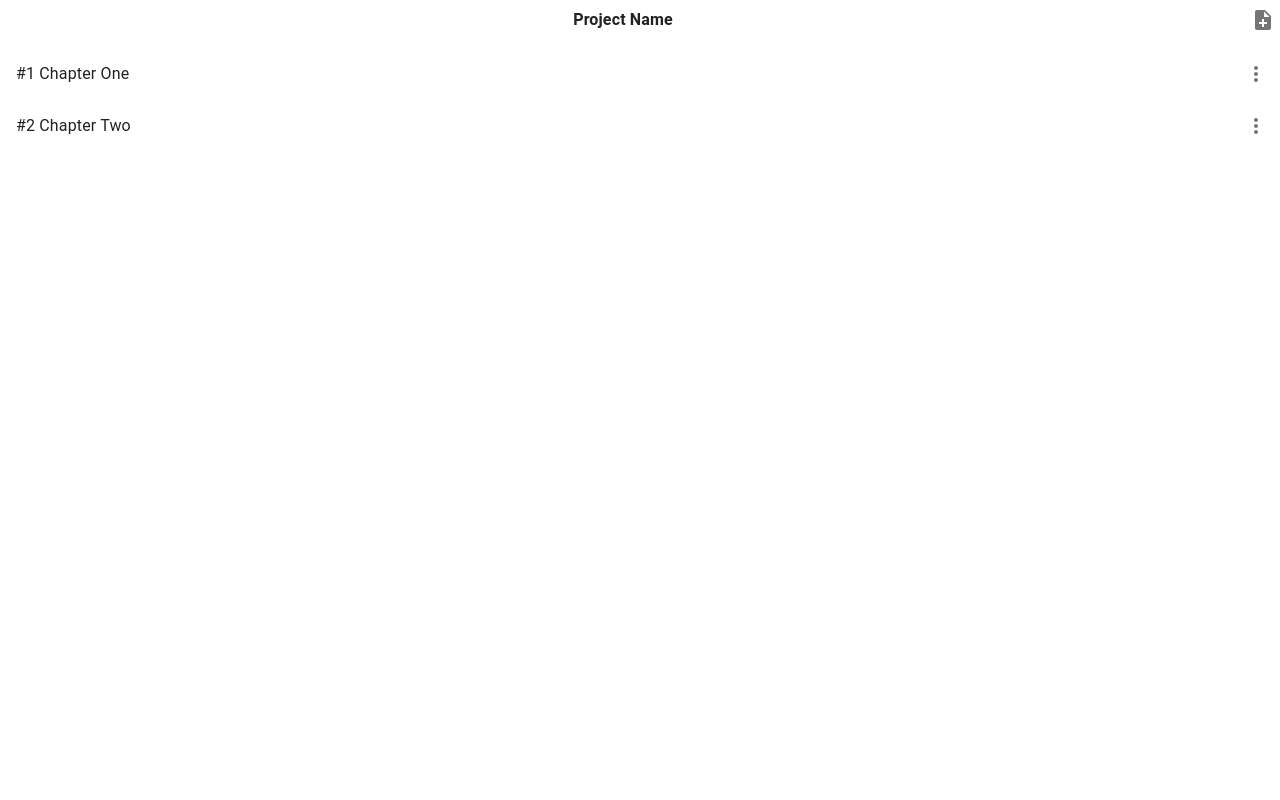
Test: should create a chapter (middle chapter)
Expected: the heading "Project Name" is shown, [573,6,673,34]
Click the button named "new chapter" at coordinates (1263, 20), box [1246,0,1279,40]
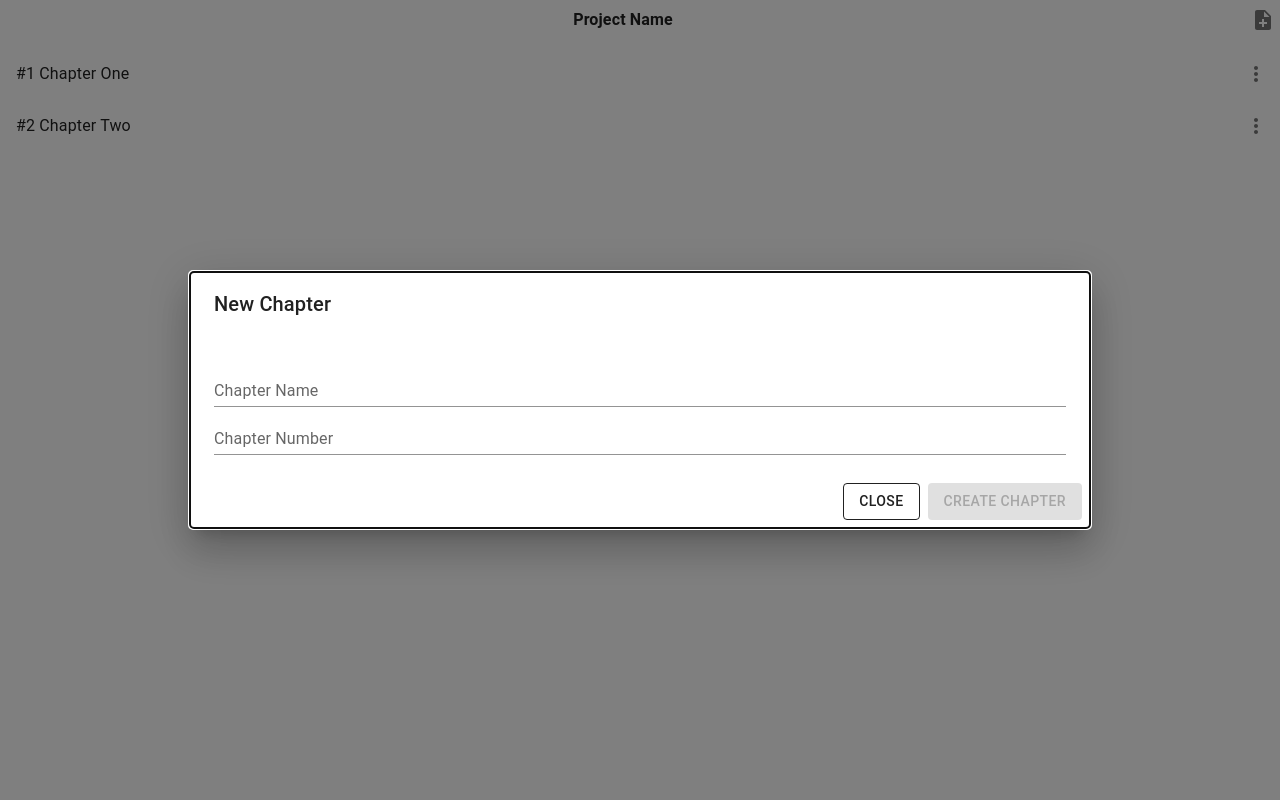
Click the field labelled "Chapter Name" at coordinates (640, 391), box [214,375,1066,407]
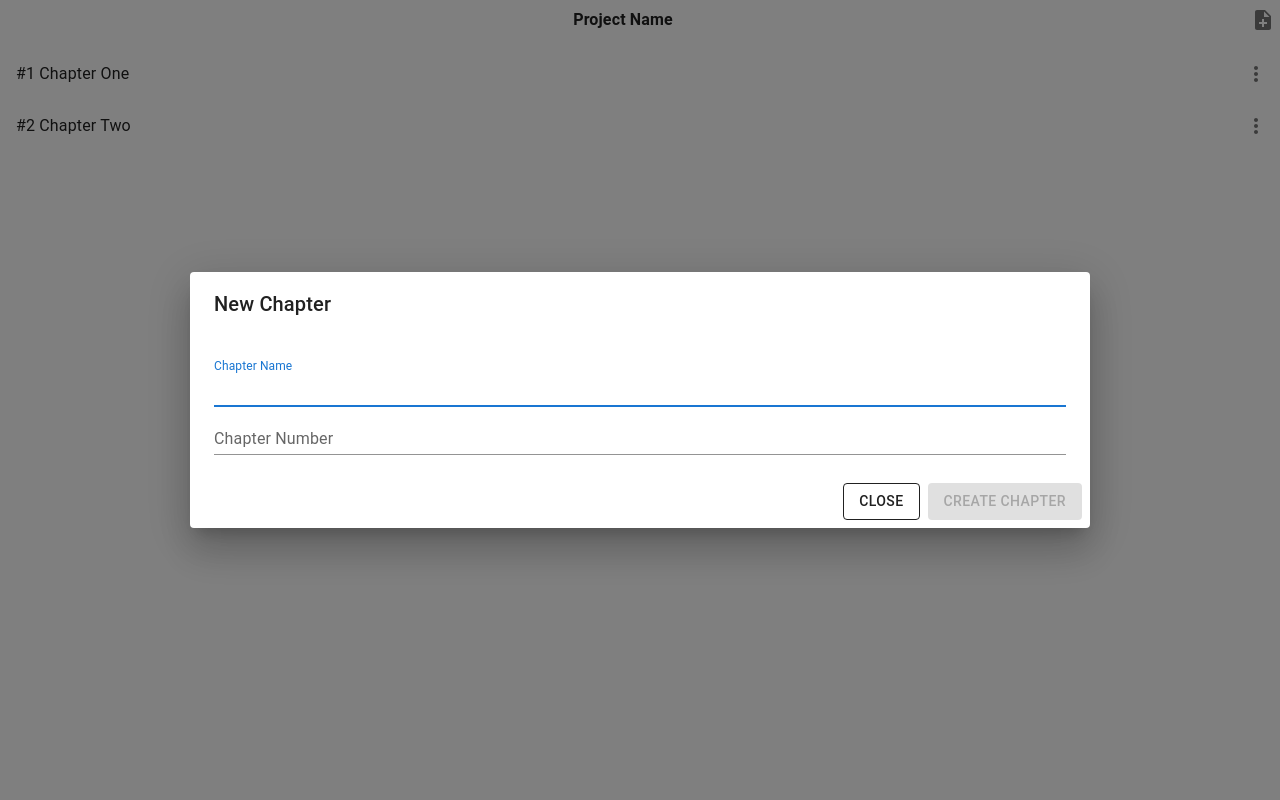
Type keys "Chapter"
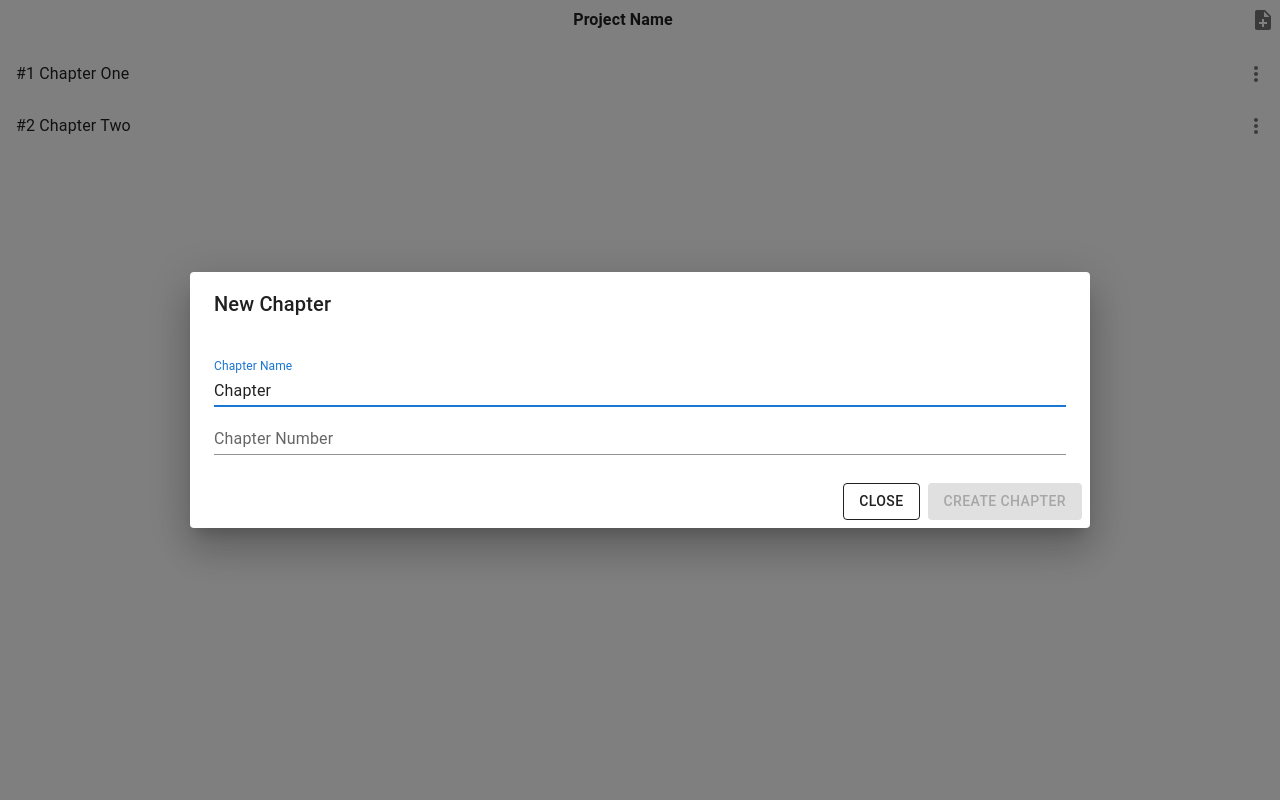
Click the field labelled "Chapter Number" at coordinates (640, 439), box [214,423,1066,455]
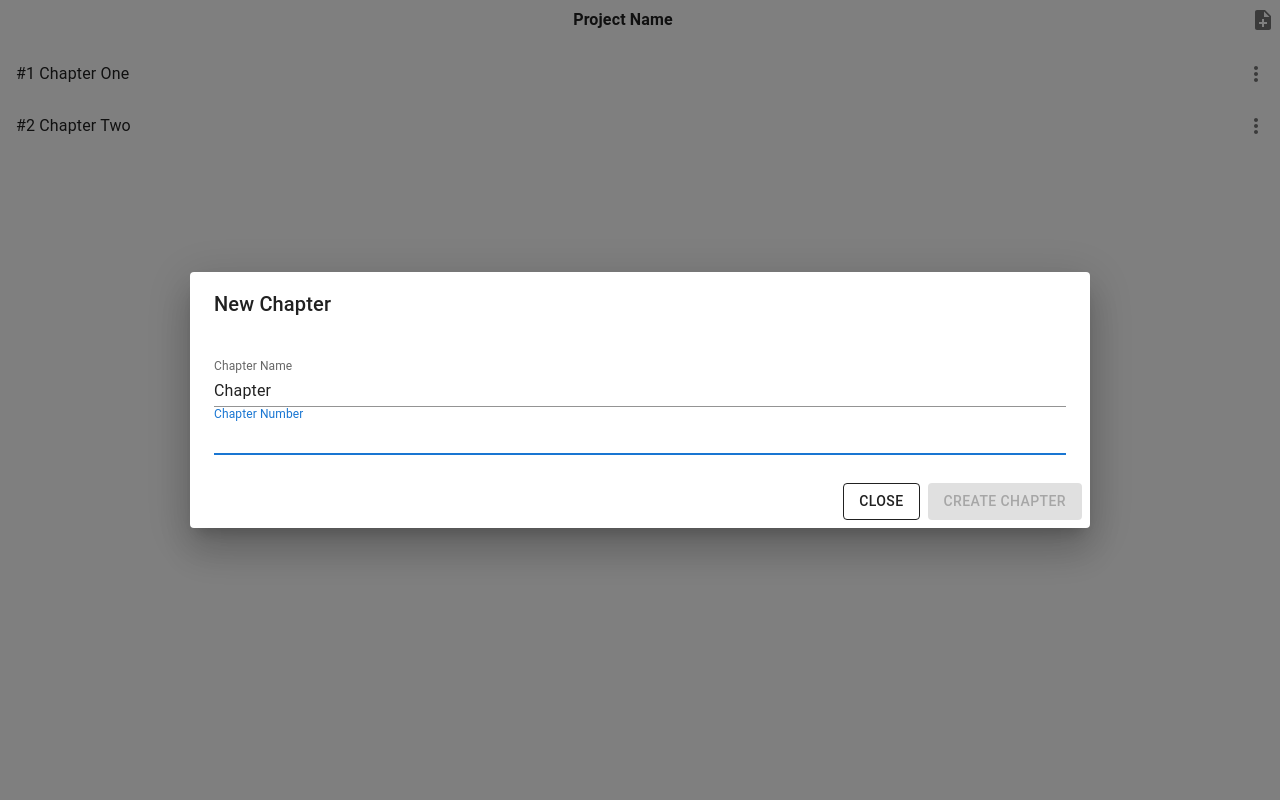
Type keys "2"
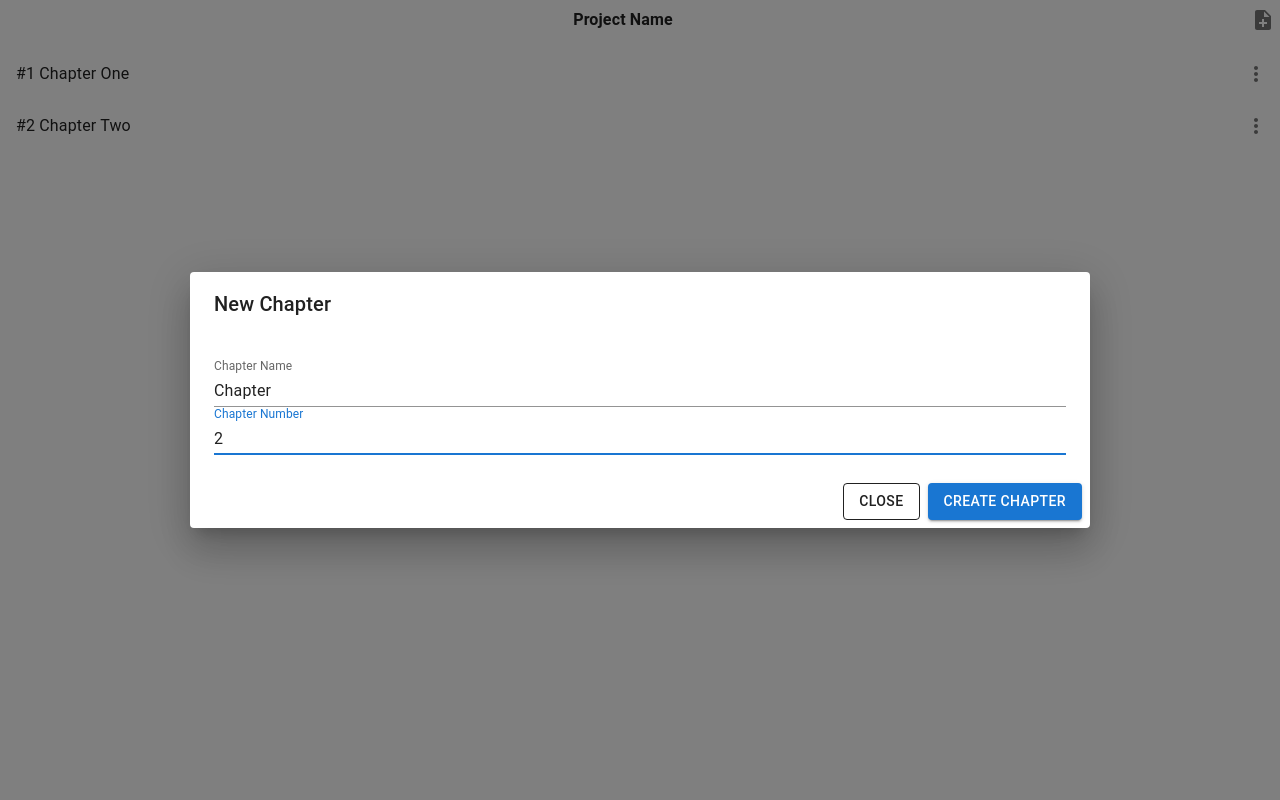
Expected: the button "Create Chapter" is enabled
Click the button "Create Chapter" at coordinates (1005, 502), box [928,483,1082,520]
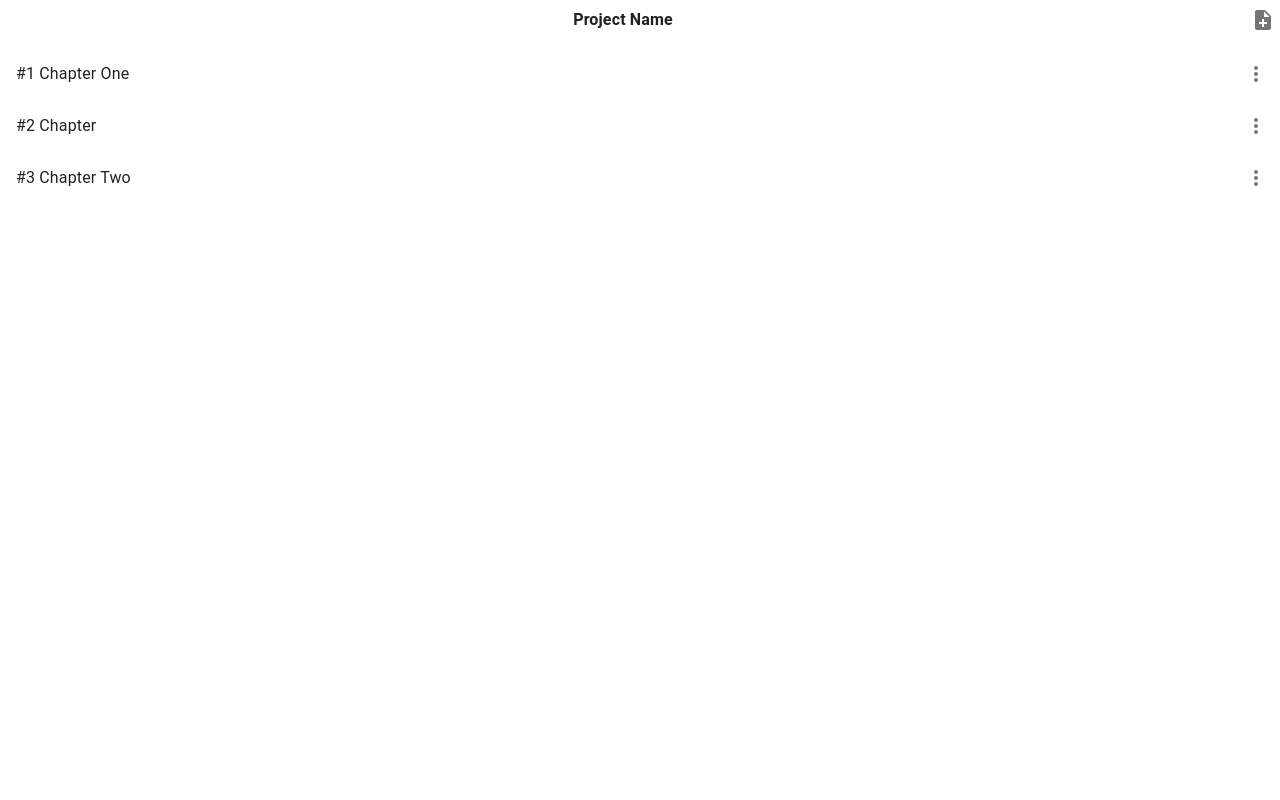
Expected: the dialog is gone
Expected: the list items read "#1 Chapter One", "#2 Chapter", "#3 Chapter Two", in this order, [0,48,1279,100]; [0,100,1279,152]; [0,152,1279,204]
